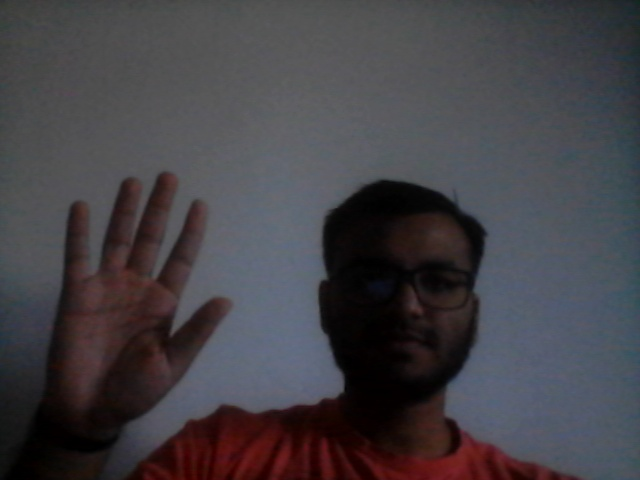Hello: (40, 162, 235, 423)
